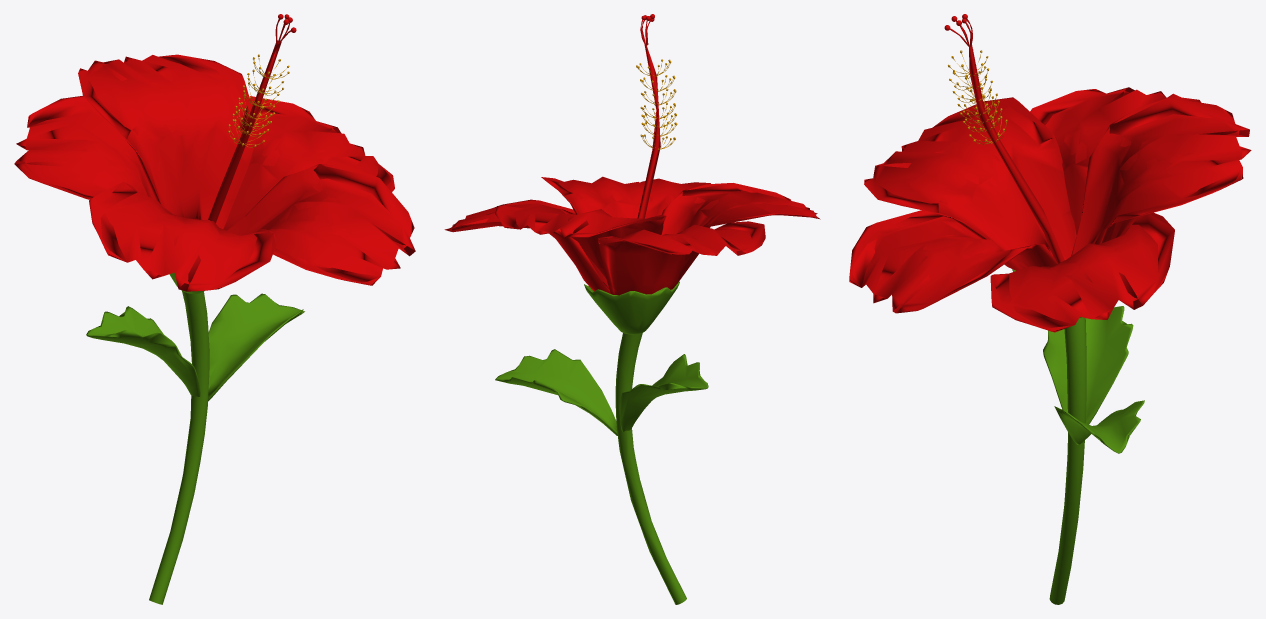
File: hibisco.glb
3 views of the same model, side by side, from view 1: azimuth 30°, elevation 25°; view 2: azimuth 150°, elevation 25°; view 3: azimuth 270°, elevation 25° (orthographic). The views are drawn at different scales.
Visible parts, largest first — view 1: Mesh_assada, Plane.052, NurbsPath.048, NurbsPath.053_assada; view 2: Mesh_assada, Plane.052, NurbsPath.048, NurbsPath.053_assada; view 3: Mesh_assada, Plane.052, NurbsPath.048, NurbsPath.053_assada.
Part boxes in pixels (x1,y1,x2,y2): Mesh_assada: (14,54,415,291); Plane.052: (86,272,304,604); NurbsPath.048: (208,40,281,223); NurbsPath.053_assada: (228,54,289,147); Mesh_assada: (444,176,820,295); Plane.052: (495,281,708,604); NurbsPath.048: (637,43,660,218); NurbsPath.053_assada: (636,59,677,149); Mesh_assada: (849,87,1251,332); Plane.052: (1012,269,1144,604); NurbsPath.048: (969,44,1064,263); NurbsPath.053_assada: (948,49,1007,144).
Bounding box in the file's own units: 5.23 × 8.77 × 5.09.
